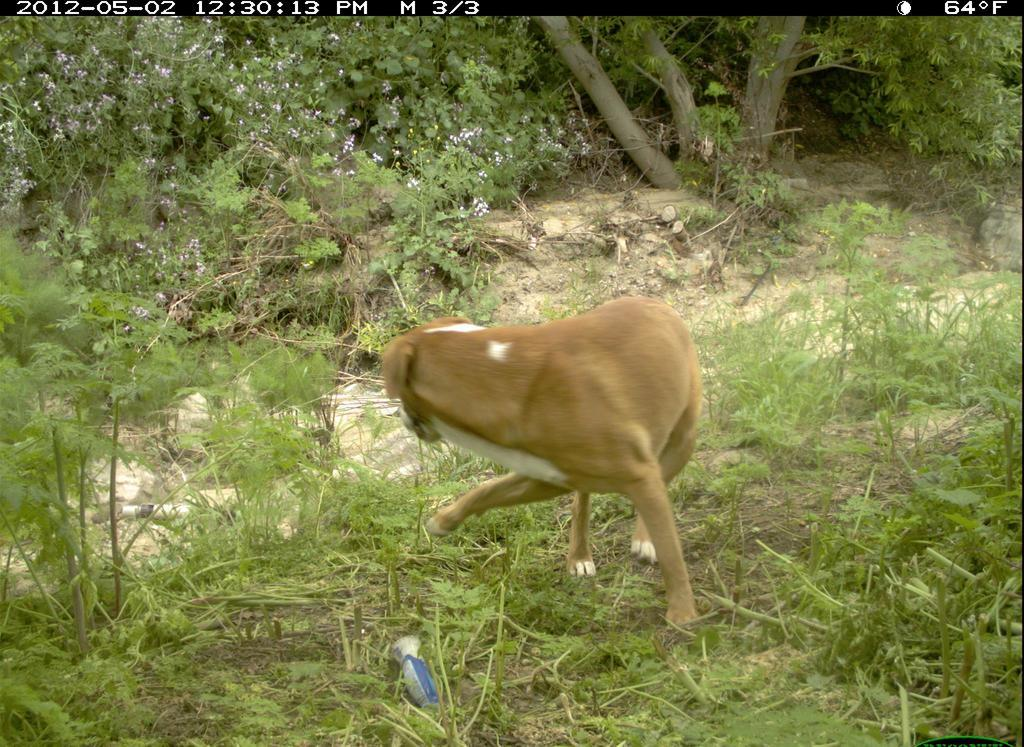dog: (387, 291, 719, 630)
